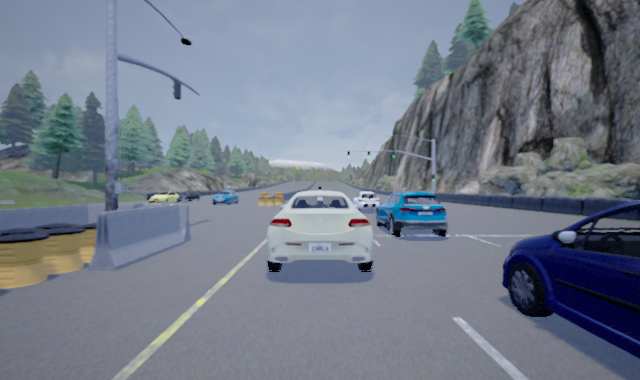bike: (316, 185, 324, 220)
traffic_light: (390, 150, 396, 159), (346, 150, 351, 159), (431, 174, 436, 182), (367, 150, 371, 159)
vehicle: (501, 198, 640, 359), (265, 189, 382, 273), (375, 191, 448, 237), (351, 191, 382, 213), (211, 190, 239, 205), (149, 190, 179, 203), (176, 191, 200, 202)
